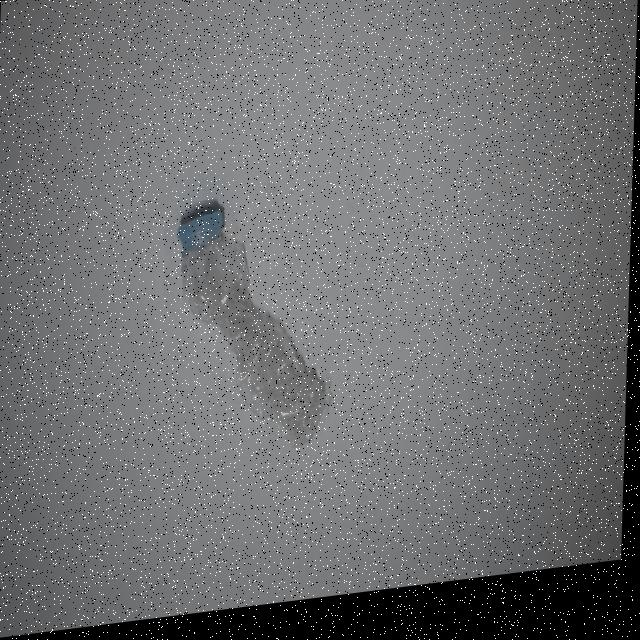litter: (178, 238, 346, 466), (174, 201, 243, 259)
